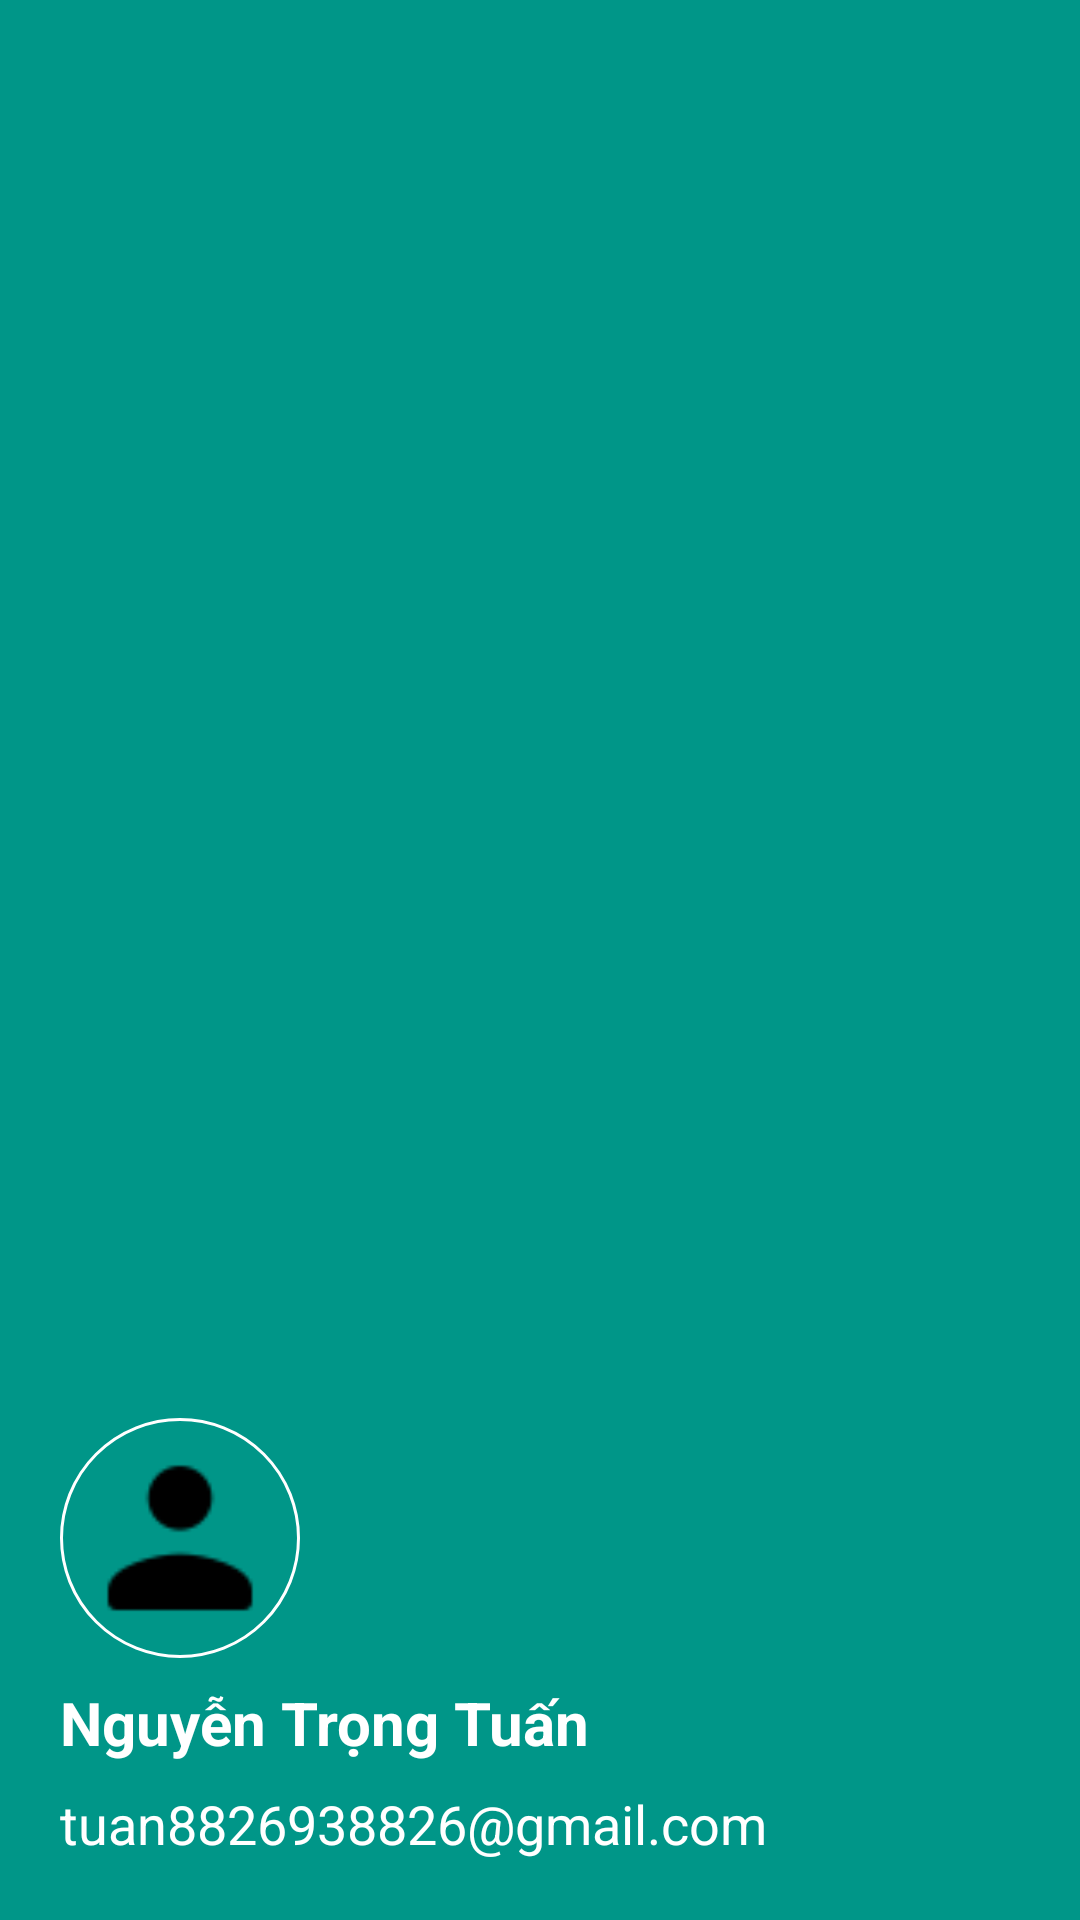

Named icons in this screenshot (1080 x 1920) and their centers, point (x, y):
iconuser: point (180, 1538)
